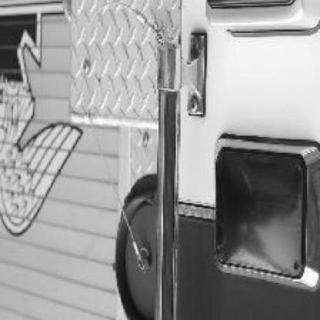other: (180, 180, 299, 299)
